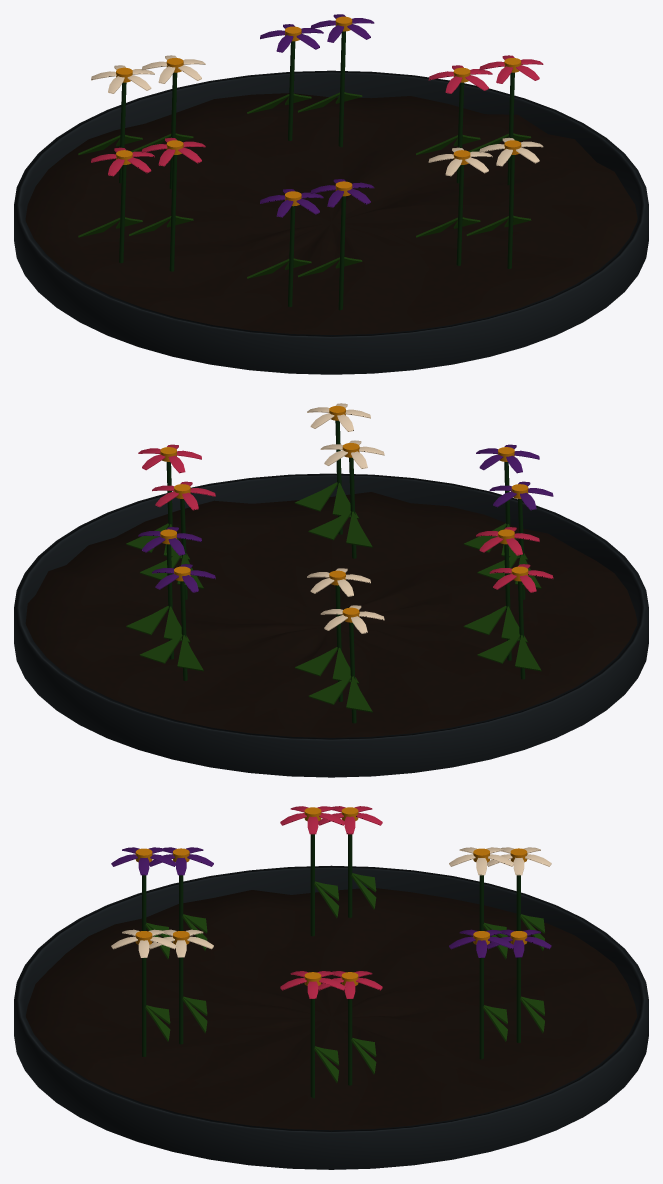
File: FlowerPatch.gltf
3 renders of one model, top to bottom at view 1: azimuth 30°, elevation 25°; view 2: azimuth 150°, elevation 25°; view 3: azimuth 270°, elevation 25°, orthographic.
Parts seen in each view (by area): view 1: FlowerPatch__Body, Flower.005, Flower.003, Flower.002, Flower.001, Flower.004, Flower; view 2: FlowerPatch__Body, Flower.004, Flower.003, Flower.001, Flower.005, Flower, Flower.002; view 3: FlowerPatch__Body, Flower.003, Flower.005, Flower, Flower.001, Flower.004, Flower.002.
Boxes of the visible parts, left/top/right/bottom form: FlowerPatch__Body: left=14, top=70, right=648, bottom=374; Flower.005: left=247, top=14, right=374, bottom=147; Flower.003: left=78, top=137, right=205, bottom=271; Flower.002: left=247, top=179, right=374, bottom=310; Flower.001: left=416, top=137, right=543, bottom=268; Flower.004: left=78, top=55, right=205, bottom=189; Flower: left=416, top=55, right=543, bottom=185; FlowerPatch__Body: left=14, top=473, right=648, bottom=777; Flower.004: left=295, top=568, right=384, bottom=723; Flower.003: left=463, top=527, right=553, bottom=679; Flower.001: left=295, top=403, right=384, bottom=558; Flower.005: left=126, top=527, right=215, bottom=680; Flower: left=126, top=444, right=215, bottom=599; Flower.002: left=464, top=444, right=553, bottom=599; FlowerPatch__Body: left=14, top=865, right=648, bottom=1169; Flower.003: left=280, top=806, right=382, bottom=936; Flower.005: left=449, top=929, right=551, bottom=1059; Flower: left=280, top=971, right=382, bottom=1098; Flower.001: left=111, top=929, right=213, bottom=1056; Flower.004: left=449, top=847, right=551, bottom=959; Flower.002: left=111, top=847, right=213, bottom=959.
Bounding box in the file's own units: 0.966 × 0.2437 × 0.966.
Materials: 1 (1 with a texture image).
